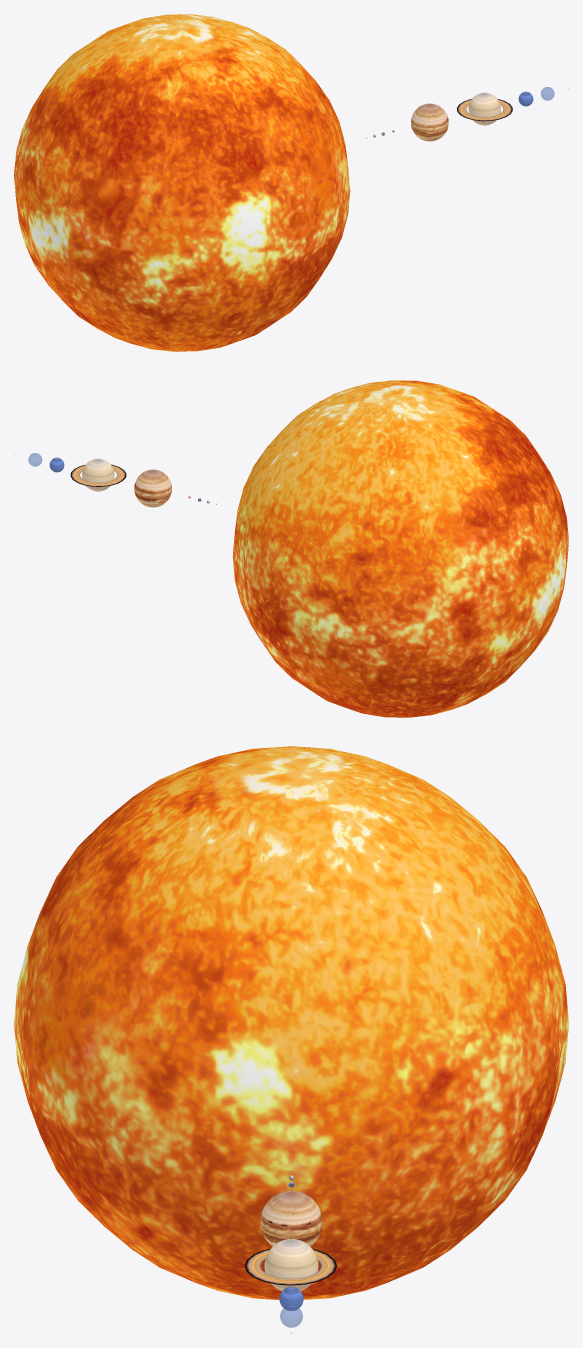
3 views of the same model, one above another, from view 1: azimuth 30°, elevation 25°; view 2: azimuth 150°, elevation 25°; view 3: azimuth 270°, elevation 25° (orthographic). The views are drawn at different scales.
Parts seen in each view (by area): view 1: Sol1; view 2: Sol1; view 3: Sol1.
Part boxes in pixels (x1=…): Sol1: x1=14, y1=14, x2=568, y2=351; Sol1: x1=14, y1=380, x2=568, y2=717; Sol1: x1=14, y1=746, x2=568, y2=1333.
Bounding box in the file's own units: 1540 × 846 × 846.
